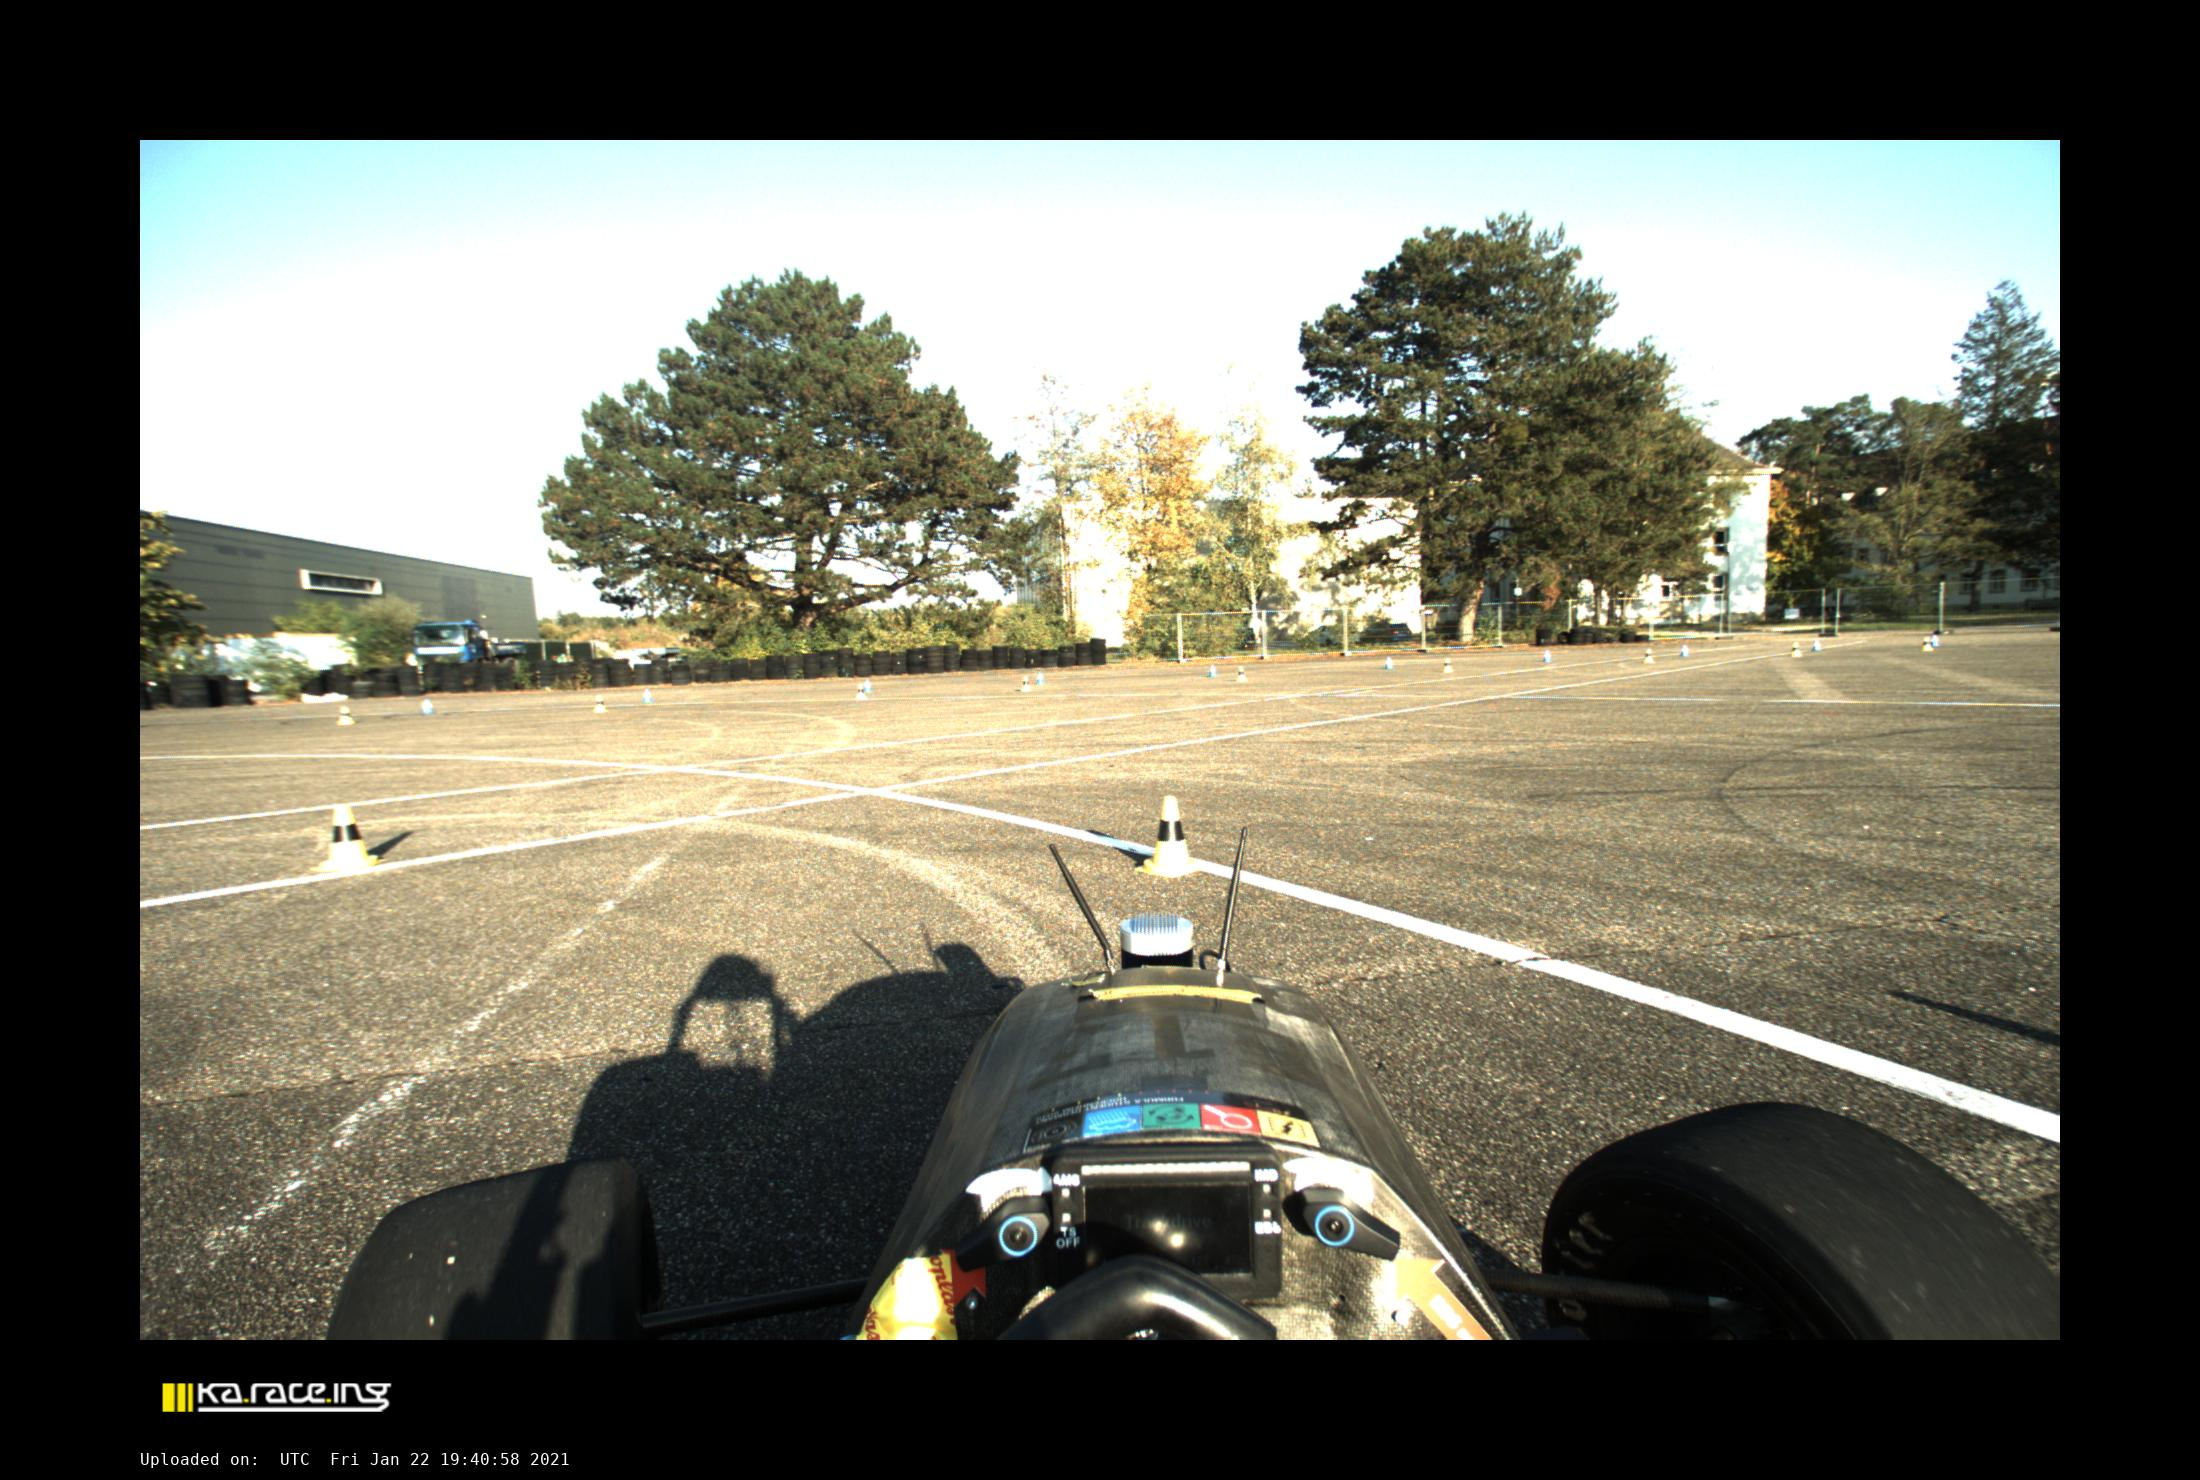blue_cone: (420, 699, 434, 714), (639, 687, 652, 704), (1810, 638, 1822, 651), (864, 677, 872, 694), (1382, 656, 1392, 669), (1543, 649, 1553, 662), (1680, 644, 1690, 657), (1036, 671, 1045, 682), (1207, 664, 1216, 677)
yellow_cone: (1135, 795, 1201, 875), (311, 804, 383, 870), (335, 704, 353, 725), (852, 682, 869, 700), (591, 695, 608, 712), (1921, 634, 1936, 652), (1789, 641, 1804, 657), (1019, 674, 1032, 692), (1440, 657, 1453, 672), (1235, 666, 1247, 682), (1643, 647, 1655, 664)
